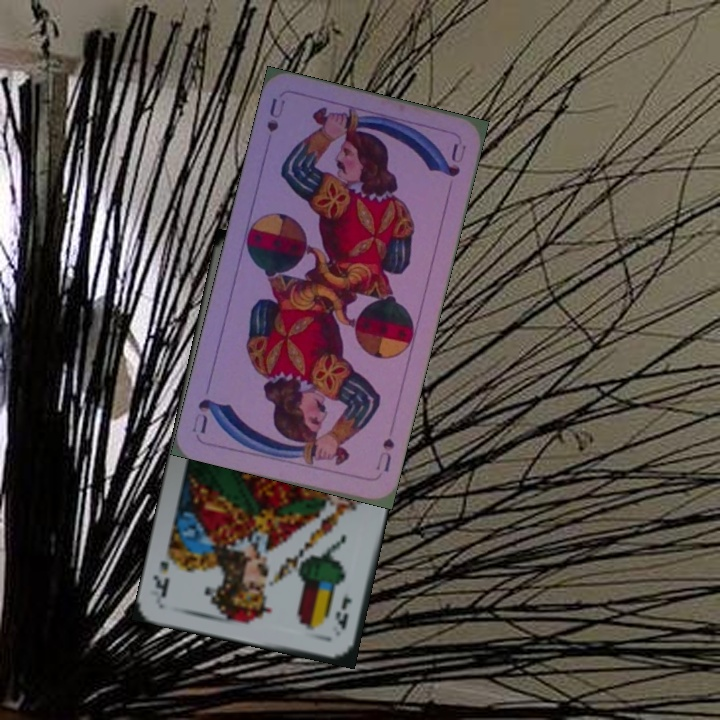EK: (331, 592, 355, 633)
SU: (263, 93, 288, 135), (372, 434, 397, 475)
